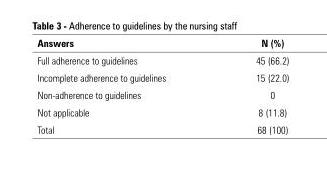table: (36, 36, 288, 135)
table column: (36, 36, 210, 135), (210, 36, 288, 135)
table column header: (36, 36, 288, 51)
table row: (36, 85, 288, 103), (36, 51, 288, 68), (36, 68, 288, 85), (36, 103, 288, 120), (36, 36, 288, 51), (36, 120, 288, 135)
